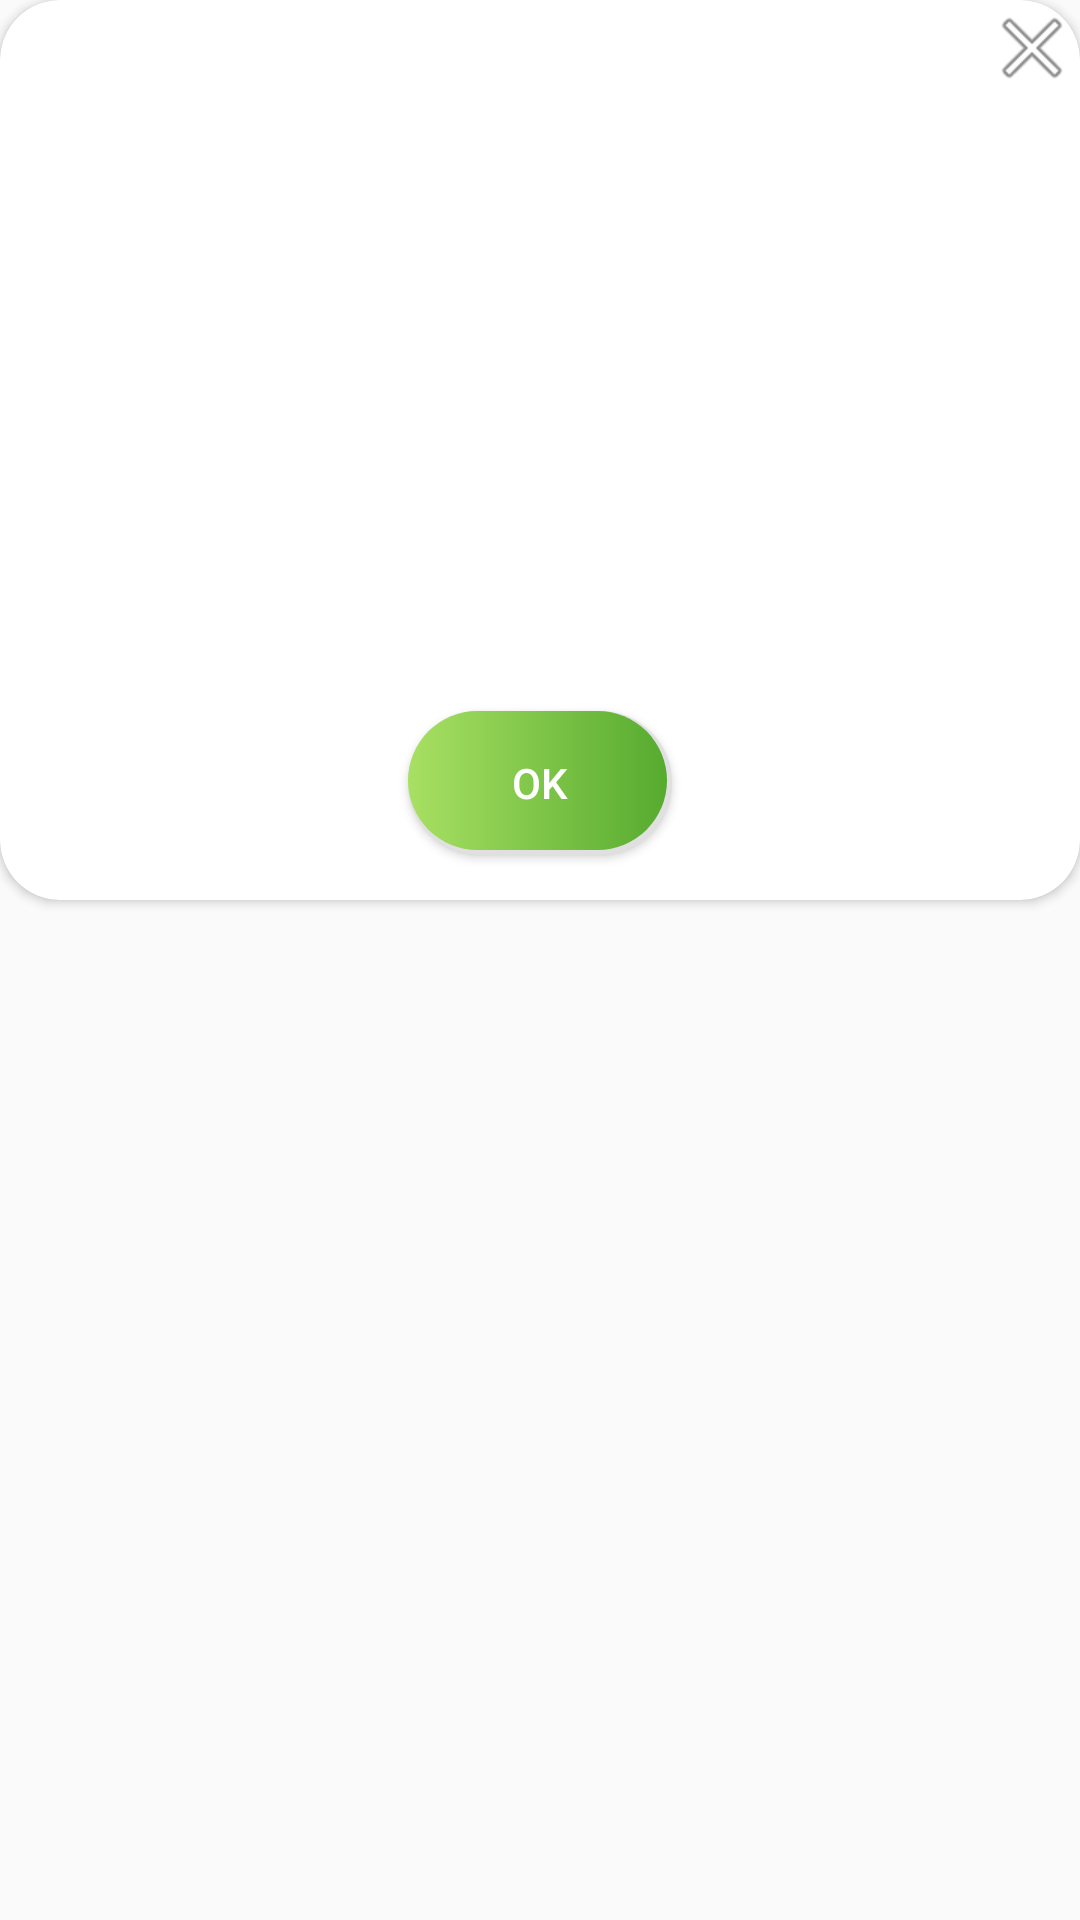

Icons on this 1080x1920 Android screen, each with its box as BBox(x1, y1, x2, y2):
close clear cancel: BBox(1002, 0, 1080, 78)
